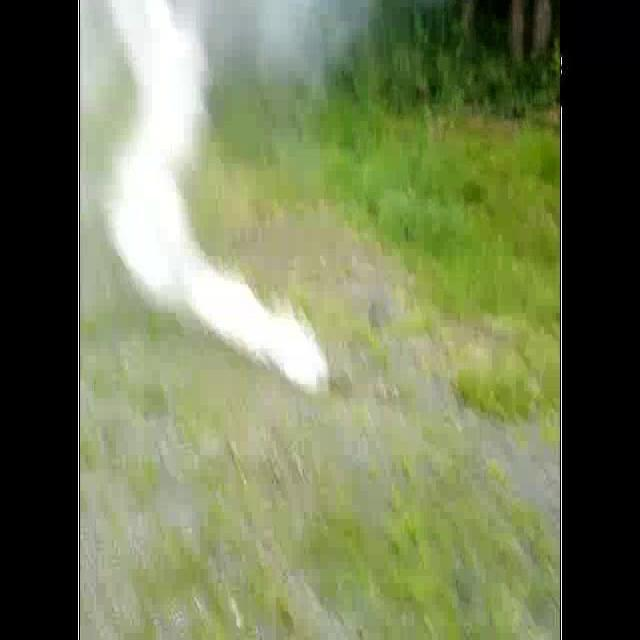Smoke: (77, 0, 382, 391)
